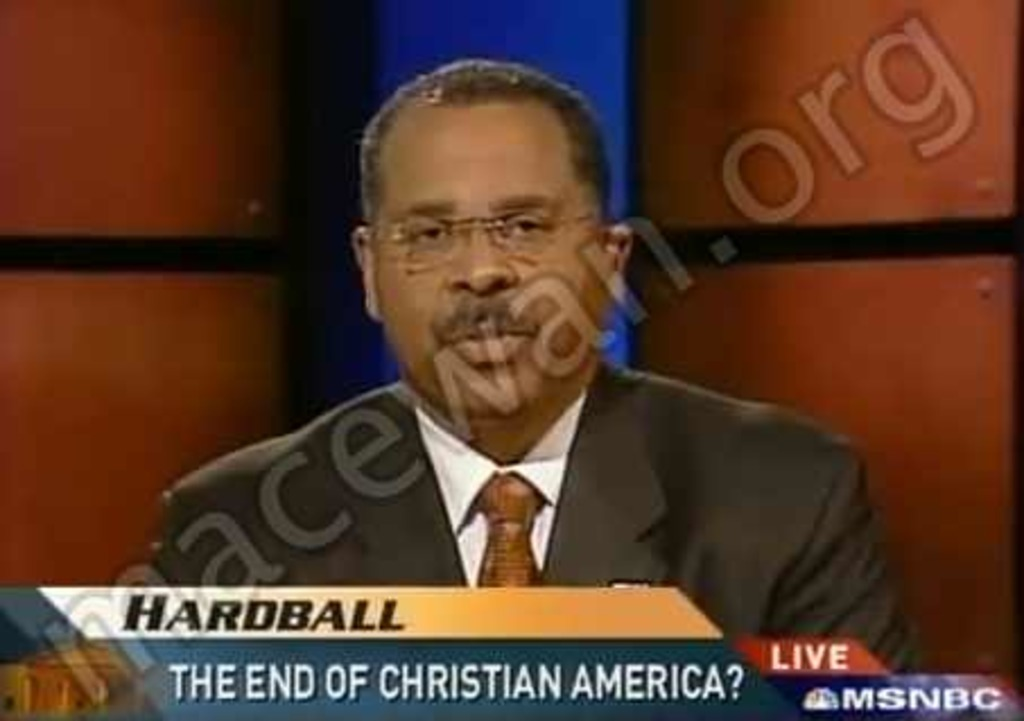Person: (142, 56, 917, 672)
